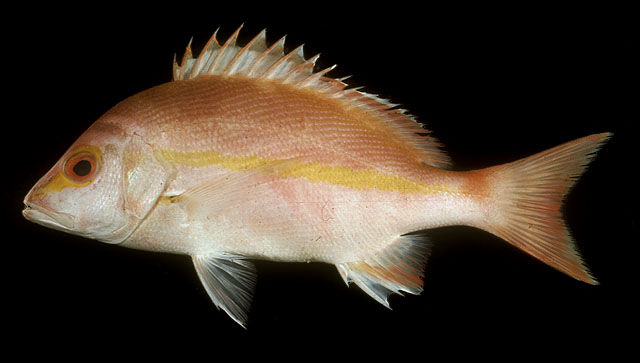fish: (20, 22, 612, 331)
